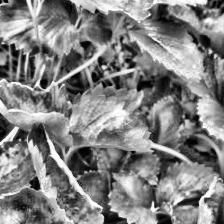Powdery Mildew Leaf: (26, 120, 105, 224), (67, 82, 154, 153), (0, 78, 74, 146), (0, 186, 80, 224), (193, 177, 224, 224)
